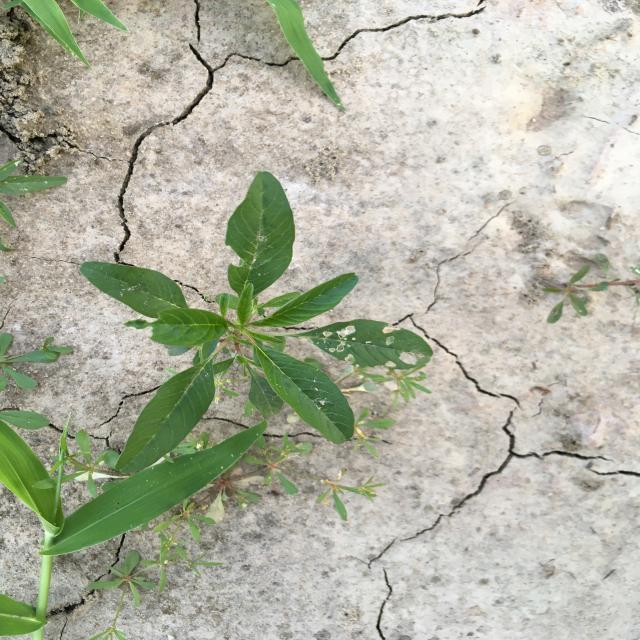Carpetweed: (203, 432, 314, 527), (140, 491, 230, 576), (89, 550, 167, 636), (302, 464, 392, 528), (0, 330, 80, 396)
Waterhemp: (76, 168, 436, 476)
